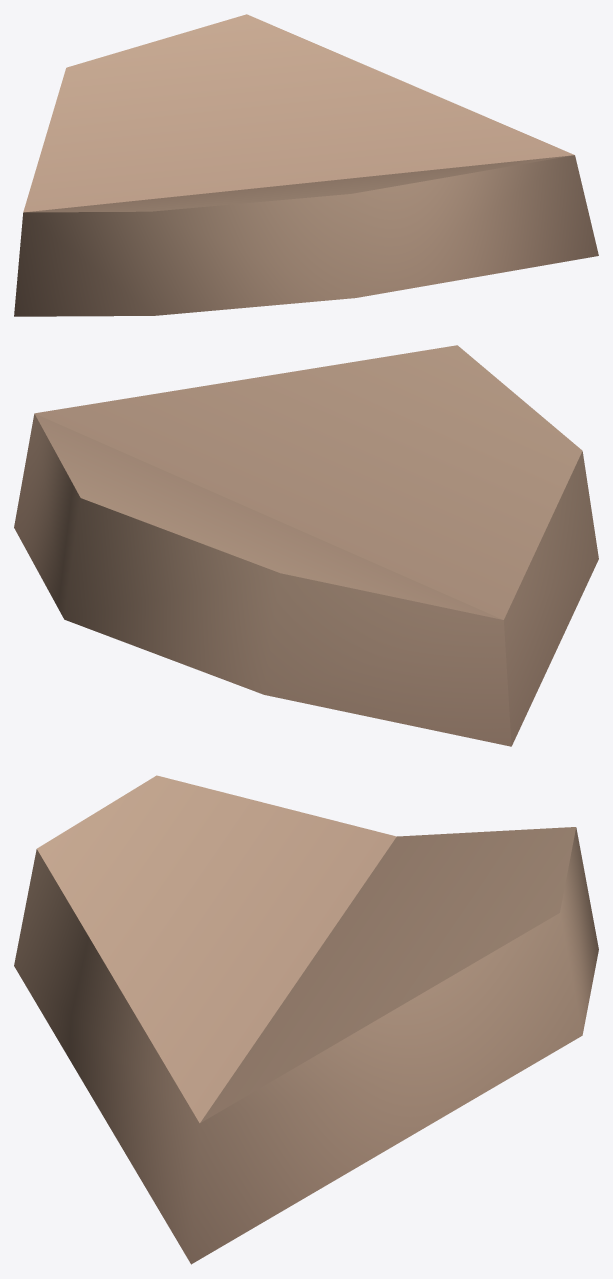
Rendered from (%no-merge) 31.glb.
3 renders of one model, top to bottom at view 1: azimuth 30°, elevation 25°; view 2: azimuth 150°, elevation 25°; view 3: azimuth 270°, elevation 25°, orthographic. The views are drawn at different scales.
Visible parts, largest first — view 1: (%no-merge) 31; view 2: (%no-merge) 31; view 3: (%no-merge) 31.
Part boxes in pixels (<box>): (%no-merge) 31: <box>14,14,598,316</box>; (%no-merge) 31: <box>14,345,598,746</box>; (%no-merge) 31: <box>14,775,598,1264</box>.
Size of the model in its own units: 0.1745 by 0.0609 by 0.1418.
